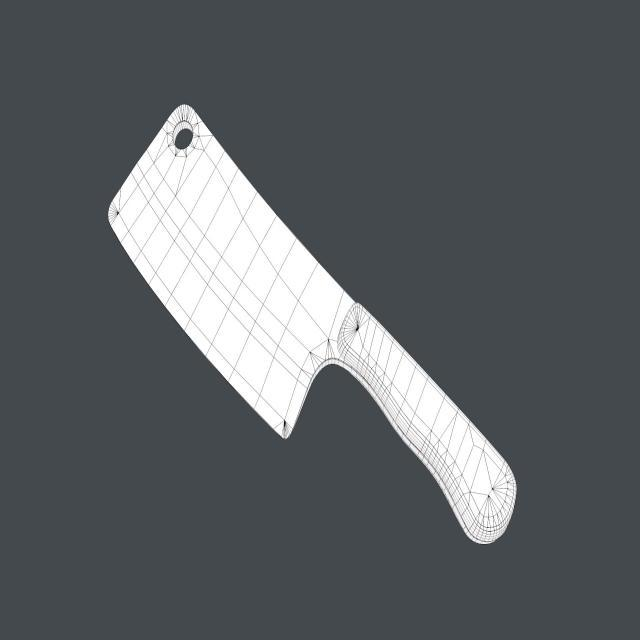cleaver: (105, 100, 518, 546)
